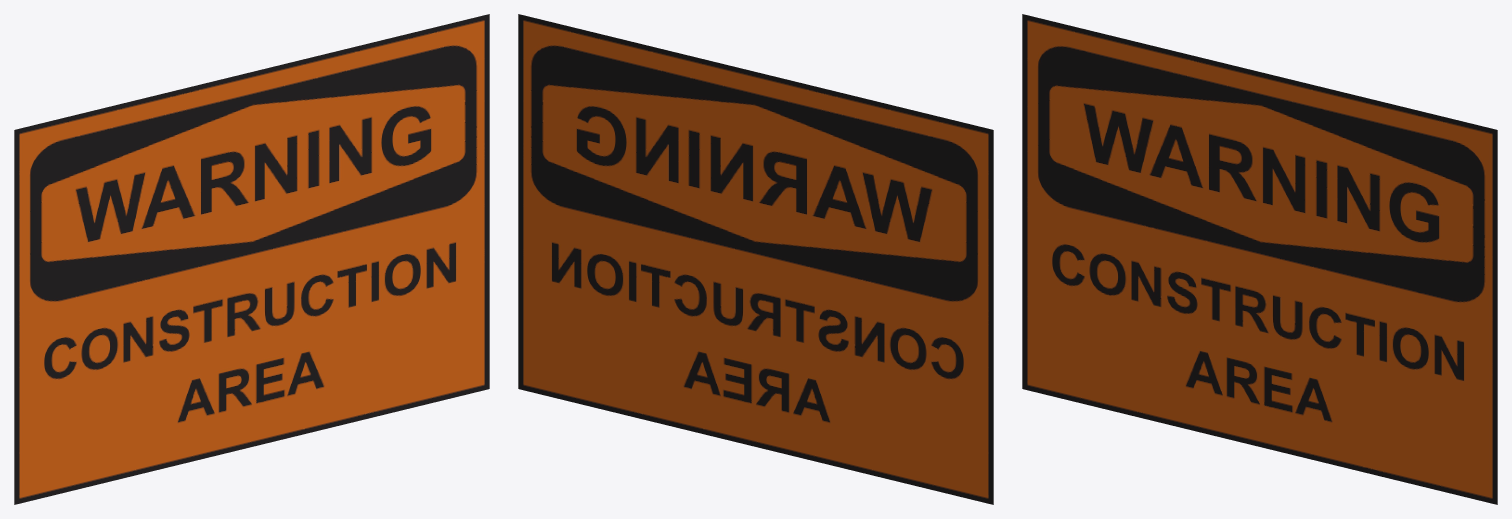
Rendered from warning.fbx.
3 renders of one model, left to right at view 1: azimuth 30°, elevation 25°; view 2: azimuth 150°, elevation 25°; view 3: azimuth 330°, elevation 25°, orthographic.
Parts seen in each view (by area): view 1: warning.001, warning.002, warning.006, warning.003, warning.004, warning.005, warning.007; view 2: warning.001, warning.002, warning.006, warning.003, warning.004, warning.005, warning.007; view 3: warning.001, warning.002, warning.006, warning.003, warning.004, warning.007, warning.005.
Part boxes in pixels (left/top/right/bottom): warning.001: left=14, top=86, right=251, bottom=317; warning.002: left=192, top=28, right=430, bottom=212; warning.006: left=73, top=259, right=251, bottom=475; warning.003: left=311, top=14, right=489, bottom=291; warning.004: left=252, top=198, right=370, bottom=446; warning.005: left=370, top=248, right=489, bottom=417; warning.007: left=14, top=303, right=133, bottom=504; warning.001: left=756, top=86, right=993, bottom=317; warning.002: left=577, top=28, right=815, bottom=212; warning.006: left=756, top=259, right=934, bottom=475; warning.003: left=518, top=14, right=696, bottom=291; warning.004: left=637, top=198, right=755, bottom=446; warning.005: left=518, top=248, right=637, bottom=417; warning.007: left=874, top=303, right=993, bottom=504; warning.001: left=1022, top=14, right=1259, bottom=259; warning.002: left=1200, top=57, right=1438, bottom=255; warning.006: left=1081, top=216, right=1259, bottom=446; warning.003: left=1319, top=115, right=1497, bottom=364; warning.004: left=1260, top=212, right=1378, bottom=475; warning.007: left=1022, top=201, right=1141, bottom=417; warning.005: left=1378, top=335, right=1497, bottom=504.
Size of the model in its own units: 133 by 100 by 4.37e-06.
1 material, 1 textured.
